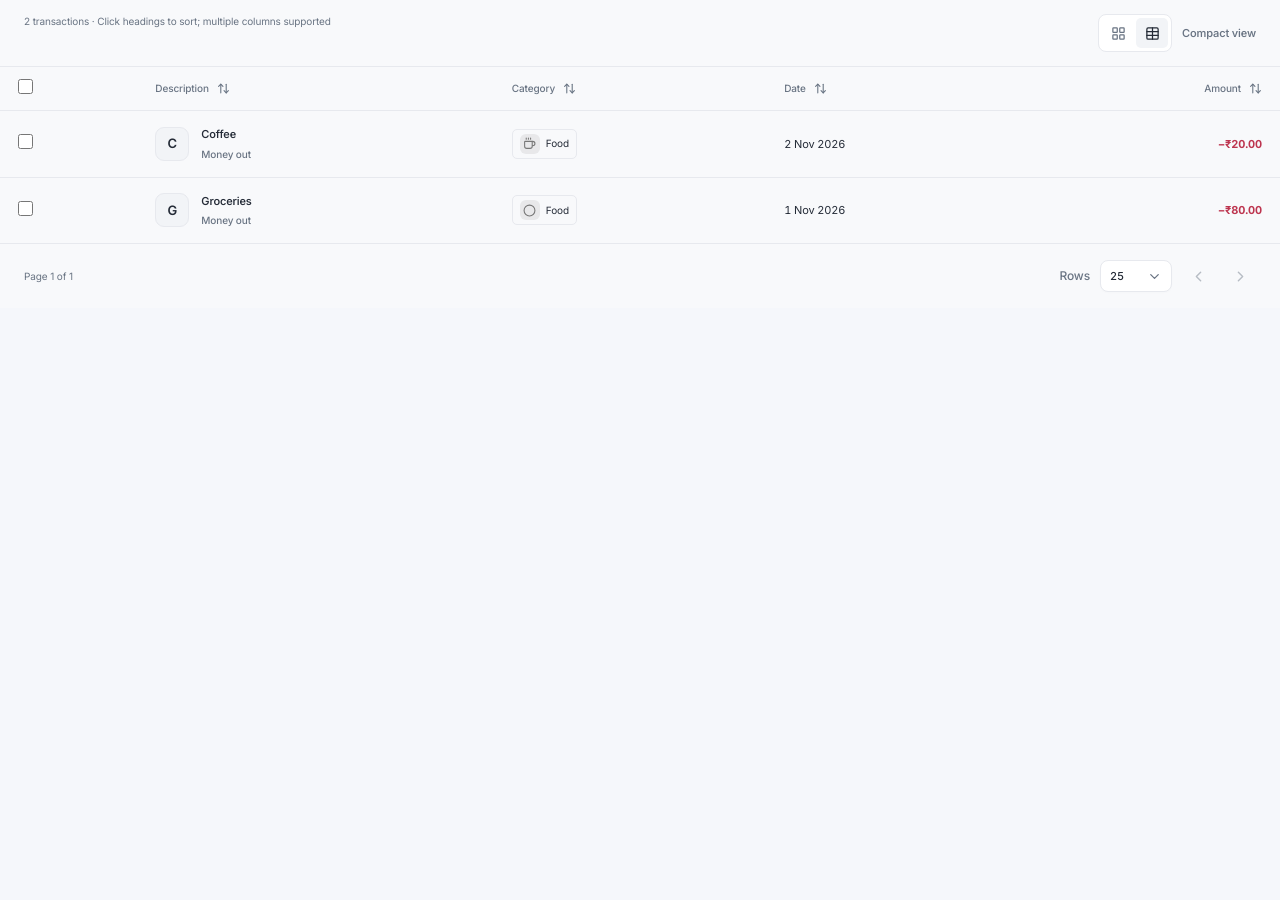
Test: Transaction UI › cycles date sorting and exposes bulk selection
The image size is (1280, 900).
Expected: the text "−₹20.00" is shown, [1218,136,1262,150]
Expected: the icon with class "lucide-coffee" is shown, [523,137,536,150]
Click the button "Date" at (805, 88), box [784,81,827,96]
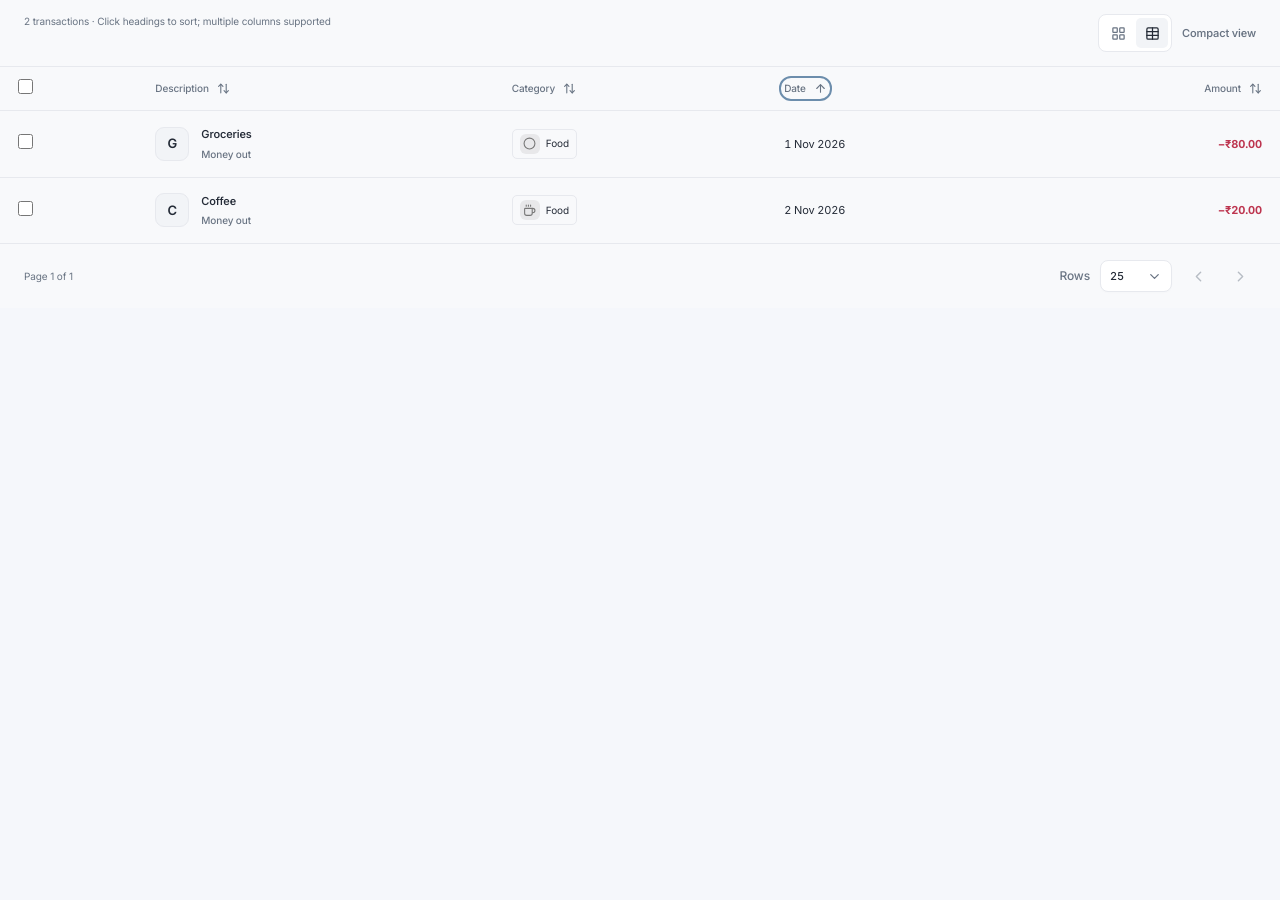
Expected: the row "G Groceries Money out Food 1 Nov 2026 −₹80.00" is shown, [0,110,1279,177]
Click the button "Date" at (805, 88), box [784,81,827,96]
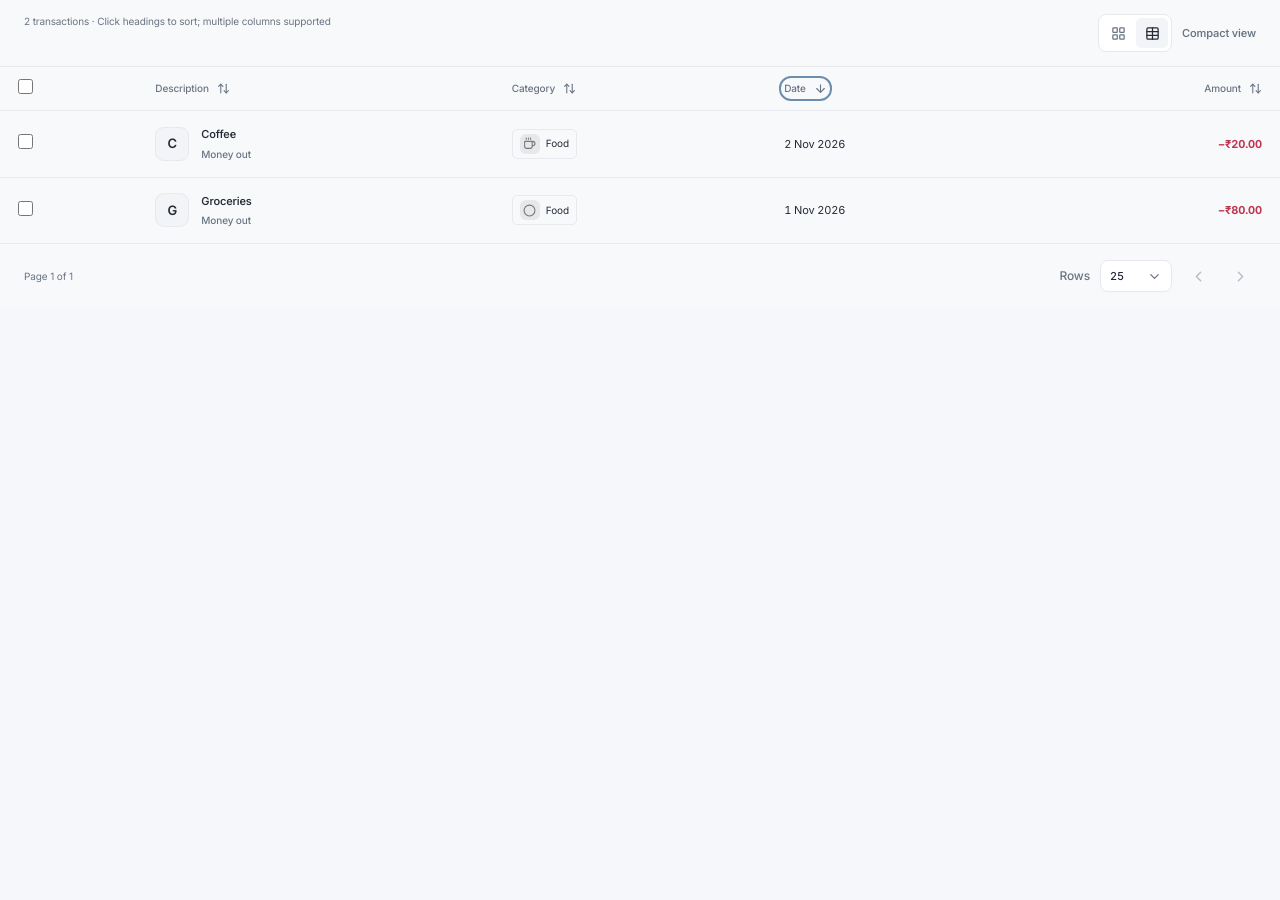
Expected: the row "C Coffee Money out Food 2 Nov 2026 −₹20.00" is shown, [0,110,1279,177]
Click the button "Date" at (805, 88), box [784,81,827,96]
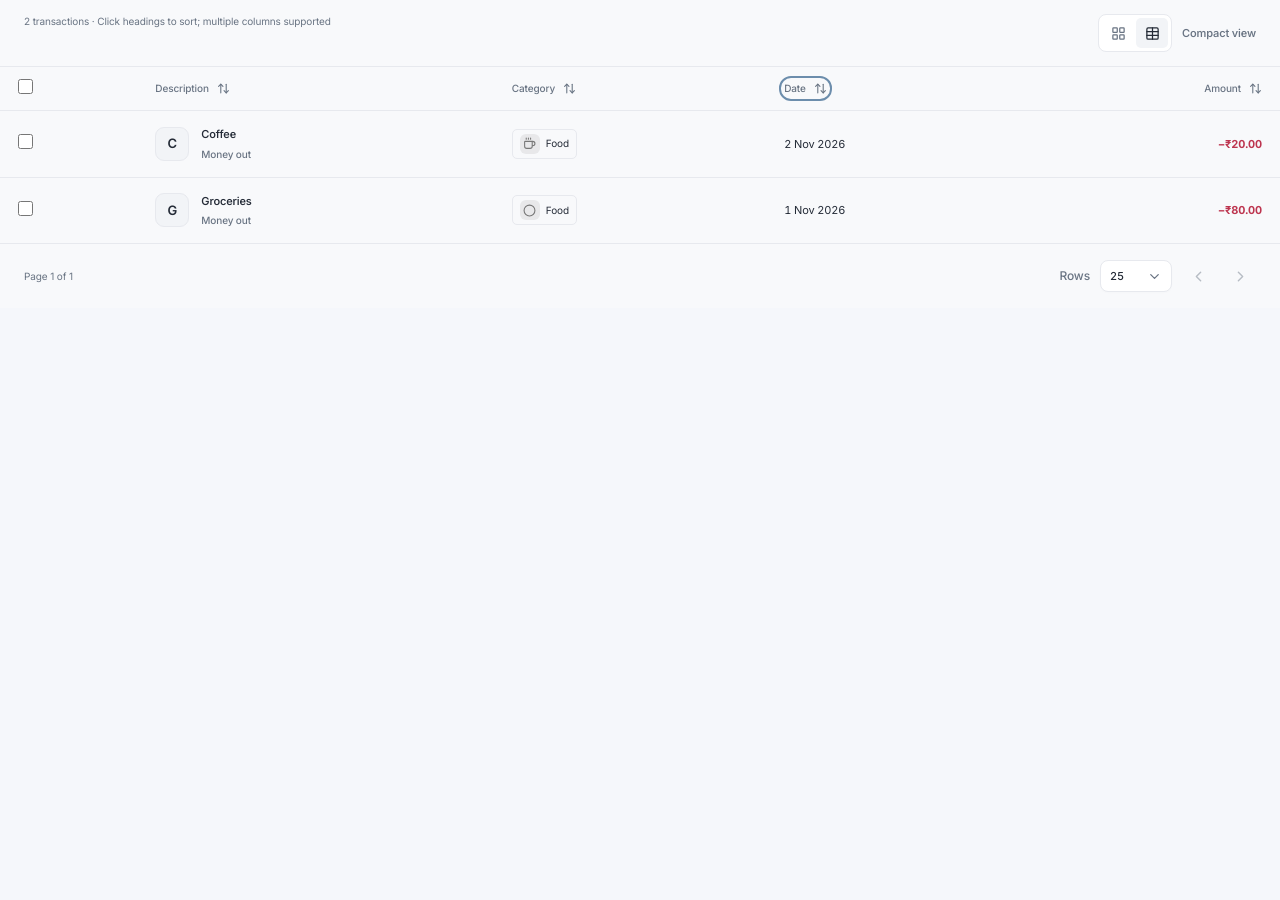
Expected: the column heading "Date" has attribute aria-sort="none", [766,66,1028,110]
Click the checkbox named "Select current page" at (26, 86), box [18,79,33,94]
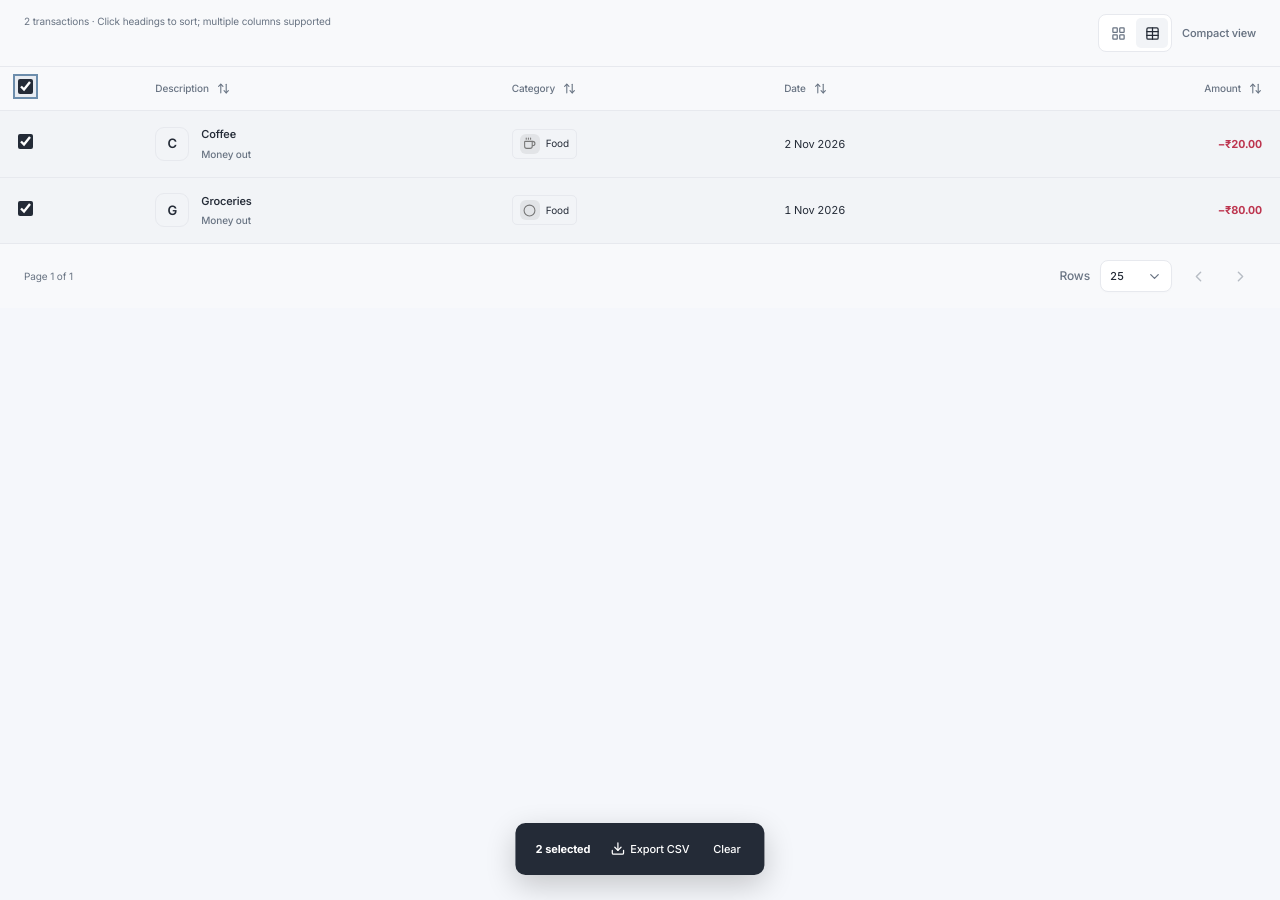
Expected: the text "2 selected" is shown, [535,840,590,857]
